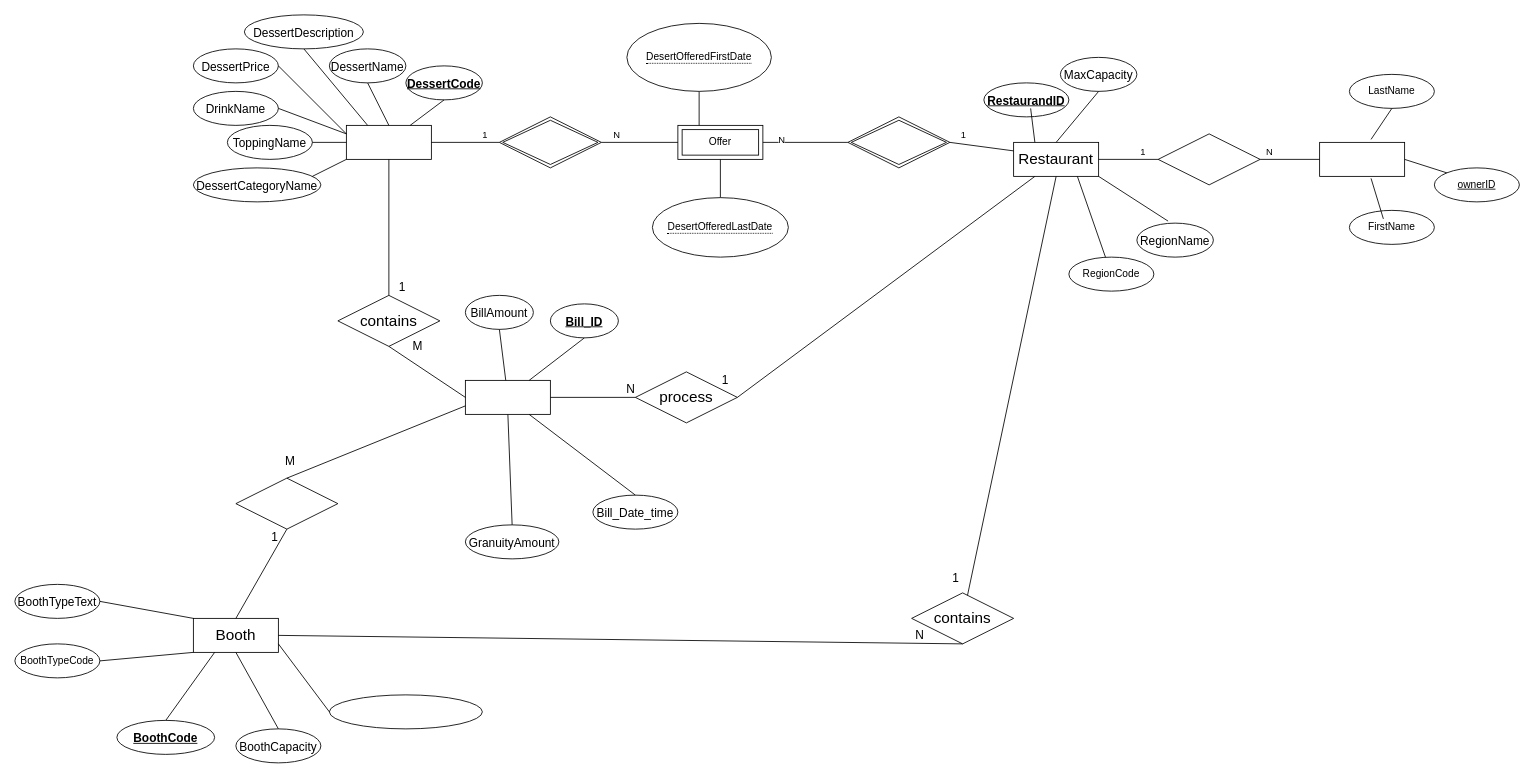
The diagram is 1534 pixels wide and 778 high, and some of its shapes have lost their labels. Each missing label, with the centre of its shape:
"Bill" belongs at pixel 507 397.
"Dessert" belongs at pixel 388 142.
"does" belongs at pixel 898 142.
"generate" belongs at pixel 286 503.
"have" belongs at pixel 1208 159.
"is" belongs at pixel 550 142.
"Owner" belongs at pixel 1362 159.
"SmokingSectionIndicator" belongs at pixel 405 711.
